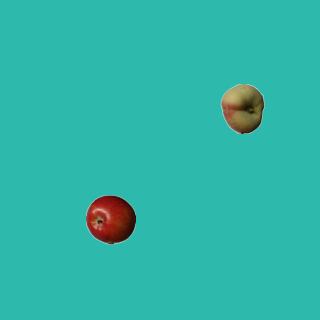Apple Braeburn: (85, 194, 135, 244)
Peach Flat: (217, 83, 267, 133)
